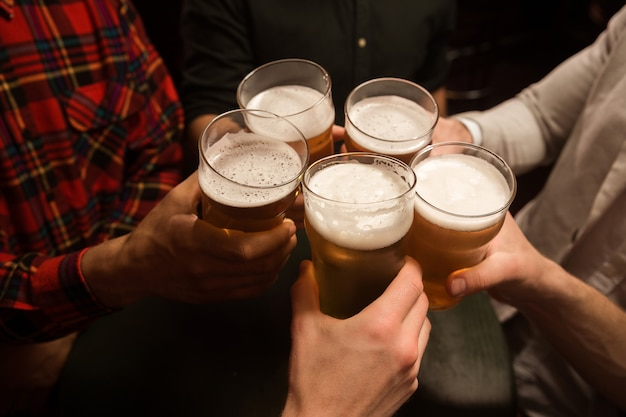alcohol: (409, 138, 517, 312), (302, 156, 414, 320), (200, 108, 310, 248), (237, 59, 342, 161), (347, 75, 441, 173)
